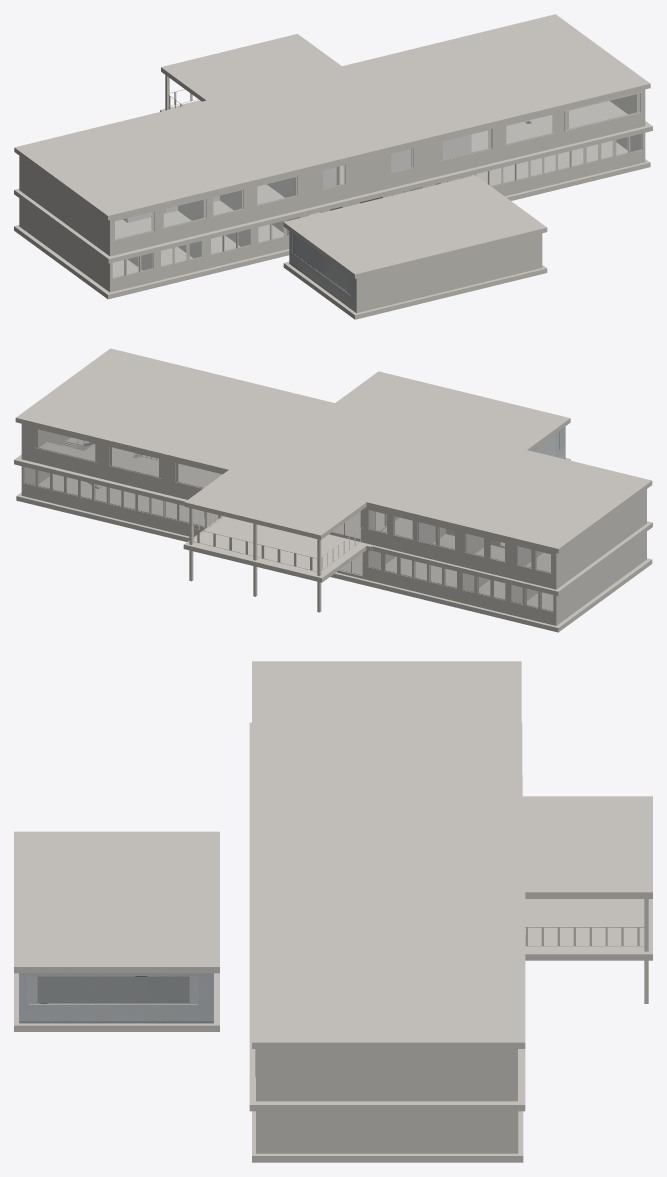
Rendered from auditorium_walk.glb.
3 views of the same model, one above another, from view 1: azimuth 30°, elevation 25°; view 2: azimuth 150°, elevation 25°; view 3: azimuth 270°, elevation 25° (orthographic). The views are drawn at different scales.
Parts seen in each view (by area): view 1: BEYOND_L2_SLAB, BEYOND_L1_WALL, BEYOND_L0_WALL, UPPER_in_zone, BEYOND_L1_SLAB, BEYOND_L0_SLAB, BEYOND_L1_GLASS, BEYOND_L0_GLASS, BEYOND_L1_FRAME, BEYOND_L0_FRAME, BEYOND_L1_OTHER, BAKE_furn_b (+2 smaller); view 2: BEYOND_L2_SLAB, BEYOND_L1_WALL, BEYOND_L1_SLAB, BEYOND_L0_WALL, BEYOND_L0_SLAB, UPPER_in_zone, BEYOND_L1_GLASS, BEYOND_L0_GLASS, BEYOND_L1_FRAME, BEYOND_L0_FRAME, BEYOND_L1_OTHER, BEYOND_L1_STAIR (+3 smaller); view 3: BEYOND_L2_SLAB, UPPER_in_zone, BEYOND_L1_WALL, BEYOND_L1_SLAB, BEYOND_L0_WALL, BEYOND_L0_SLAB, BAKE_furn_b, GLASS_zone, BAKE_wall_north, BAKE_wall_south.
Part boxes in pixels (box(x1,y1,x2,y2)): BEYOND_L2_SLAB: box(14, 14, 650, 278); BEYOND_L1_WALL: box(19, 89, 645, 256); BEYOND_L0_WALL: box(19, 133, 645, 312); UPPER_in_zone: box(289, 177, 541, 272); BEYOND_L1_SLAB: box(14, 100, 652, 263); BEYOND_L0_SLAB: box(14, 122, 650, 319); BEYOND_L1_GLASS: box(115, 94, 636, 238); BEYOND_L0_GLASS: box(113, 134, 641, 277); BEYOND_L1_FRAME: box(113, 93, 640, 240); BEYOND_L0_FRAME: box(112, 134, 642, 278); BEYOND_L1_OTHER: box(112, 89, 641, 240); BAKE_furn_b: box(293, 234, 348, 291); BEYOND_L2_SLAB: box(15, 348, 652, 553); BEYOND_L1_WALL: box(21, 424, 646, 589); BEYOND_L1_SLAB: box(14, 442, 652, 596); BEYOND_L0_WALL: box(21, 426, 646, 625); BEYOND_L0_SLAB: box(16, 444, 652, 632); UPPER_in_zone: box(338, 373, 565, 448); BEYOND_L1_GLASS: box(38, 429, 550, 572); BEYOND_L0_GLASS: box(24, 467, 552, 610); BEYOND_L1_FRAME: box(34, 428, 551, 573); BEYOND_L0_FRAME: box(23, 467, 553, 611); BEYOND_L1_OTHER: box(34, 428, 551, 573); BEYOND_L1_STAIR: box(136, 454, 500, 570); BEYOND_L2_SLAB: box(14, 661, 652, 1048); UPPER_in_zone: box(19, 834, 213, 964); BEYOND_L1_WALL: box(256, 1049, 517, 1101); BEYOND_L1_SLAB: box(249, 722, 652, 1111); BEYOND_L0_WALL: box(19, 973, 518, 1153); BEYOND_L0_SLAB: box(14, 775, 523, 1162); BAKE_furn_b: box(37, 976, 189, 1002); GLASS_zone: box(38, 977, 188, 1002); BAKE_wall_north: box(29, 973, 213, 1023); BAKE_wall_south: box(19, 973, 197, 1023).
Bounding box in the file's own units: 38.22 × 5.6 × 27.
Materials: 11 (8 with a texture image).
